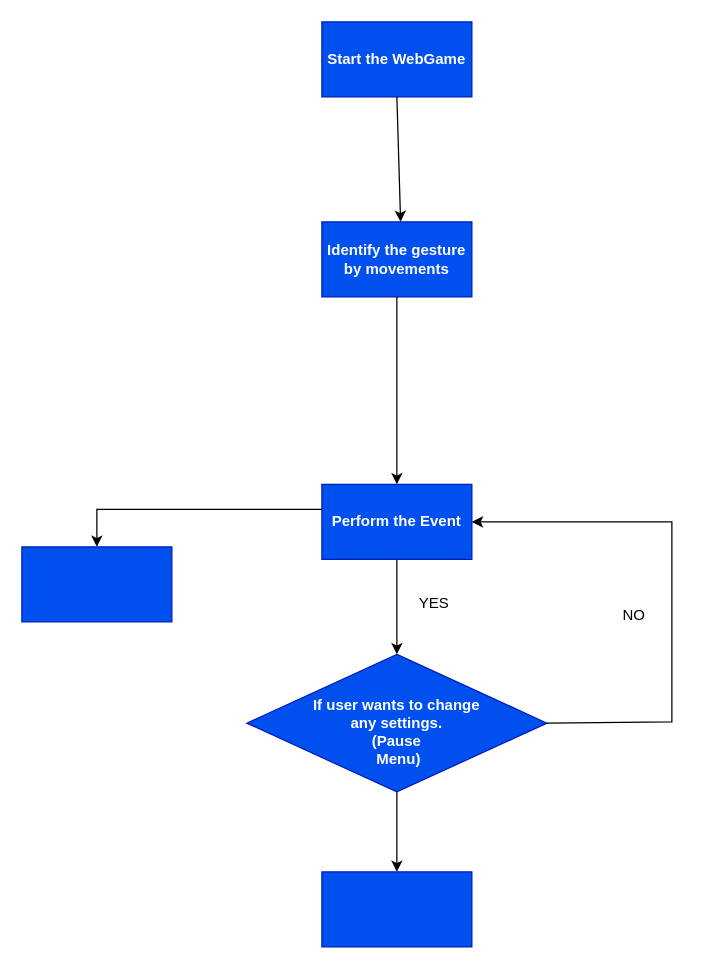
This 704x969 diagram has some shape labels left out. Here are the shapes that lost their labels. From the top down, the box of each, then its label:
(21, 546, 172, 622): Exit Game
(321, 871, 472, 947): User can do Change Settings/Stalling
